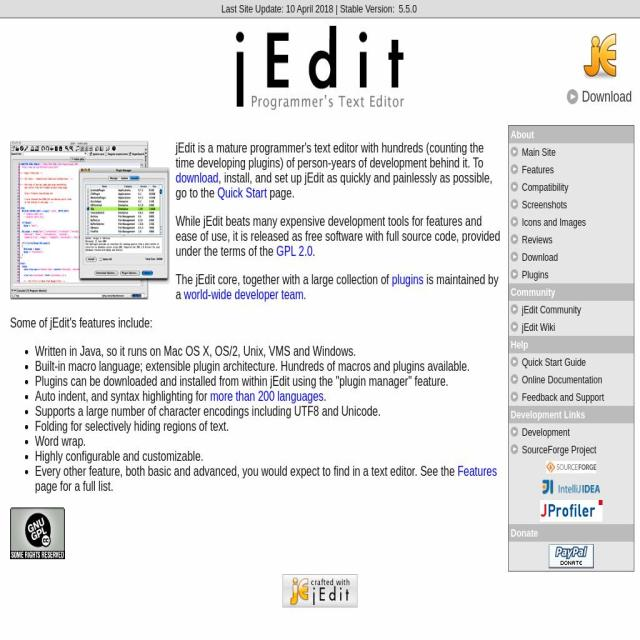image: (10, 141, 170, 300), (236, 26, 404, 110), (10, 508, 65, 559), (282, 574, 358, 608), (579, 30, 620, 83), (540, 500, 602, 522), (548, 544, 594, 568), (540, 478, 602, 495), (546, 461, 596, 473), (567, 89, 578, 104), (511, 146, 518, 156), (511, 164, 518, 174), (511, 182, 518, 192), (511, 199, 518, 209), (511, 216, 518, 226), (511, 234, 518, 244), (511, 252, 518, 262), (511, 269, 518, 279), (511, 304, 518, 314), (511, 322, 518, 332), (511, 356, 518, 366), (511, 374, 518, 384), (511, 392, 518, 402), (511, 426, 518, 436), (511, 444, 518, 454)
link: (184, 288, 304, 302), (210, 389, 324, 403), (522, 373, 602, 386), (522, 391, 604, 403), (522, 443, 596, 456), (582, 88, 632, 105), (522, 216, 586, 228), (522, 356, 586, 368), (522, 303, 581, 316), (217, 186, 267, 200), (176, 171, 218, 185), (522, 198, 567, 211), (522, 426, 570, 438), (457, 464, 497, 478), (522, 181, 568, 193), (276, 244, 312, 258), (391, 272, 424, 286), (522, 251, 558, 263), (522, 163, 554, 176), (522, 146, 556, 158), (522, 321, 555, 333), (522, 233, 552, 246), (522, 268, 549, 281), (398, 3, 417, 15)
text: (176, 214, 500, 258), (176, 272, 498, 302), (176, 171, 492, 200), (176, 141, 484, 170), (10, 316, 501, 331), (35, 344, 501, 359), (35, 359, 501, 374), (35, 374, 501, 389), (35, 404, 501, 419), (35, 419, 501, 434), (35, 434, 501, 449), (35, 449, 501, 464), (35, 464, 457, 478), (176, 272, 392, 286), (35, 389, 210, 403), (508, 126, 634, 143), (222, 3, 398, 15), (35, 479, 113, 493), (511, 408, 585, 421), (510, 286, 556, 298), (266, 186, 294, 200), (511, 527, 538, 539), (511, 338, 528, 351), (312, 244, 316, 258), (303, 288, 306, 302), (323, 389, 326, 403)
